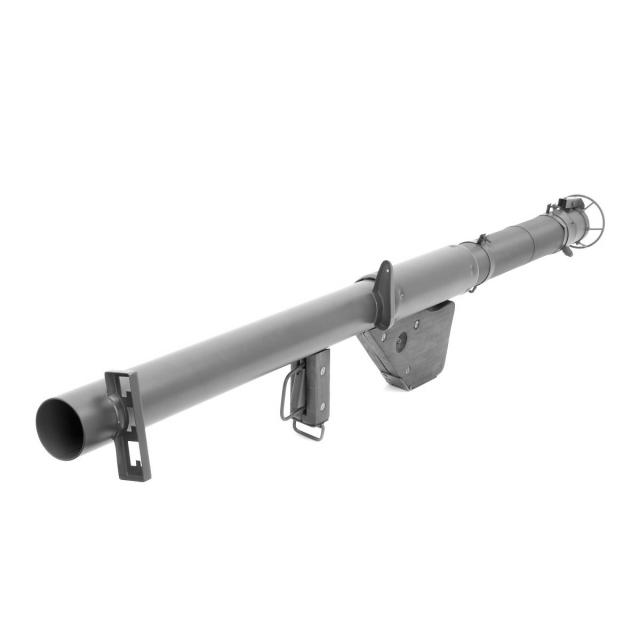Lancher: (9, 184, 615, 579)
